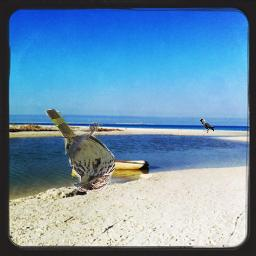Crow: (200, 119, 215, 134)
Sparrow: (45, 110, 115, 193)
